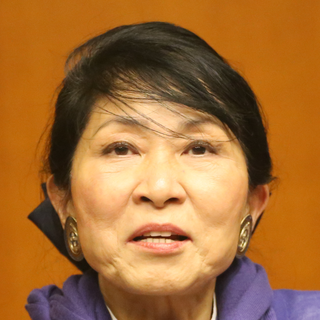eye: (99, 134, 140, 162), (176, 135, 216, 161)
